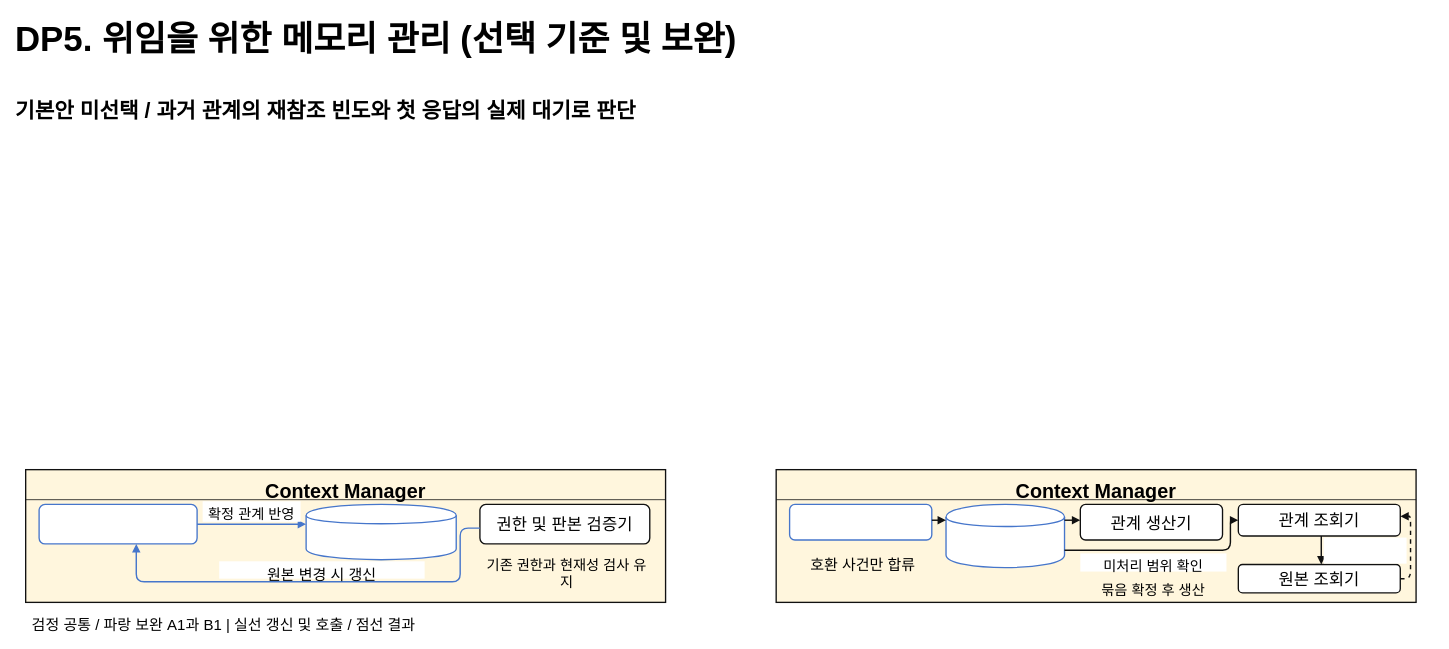
The diagram is 1449 pixels wide and 649 high, and some of its shapes have lost their labels. The box of each missing label's shape, as (x1, y1, x2, y2) in pixels:
관계 재조회 색인 (요청 간 보존): (305, 503, 457, 560)
대기 사건 (RAM): (945, 503, 1065, 568)
미게시 범위 원본 보완: (1323, 537, 1406, 563)
사건 묶음 조정기: (789, 503, 932, 540)
색인 갱신기: (38, 503, 197, 544)
